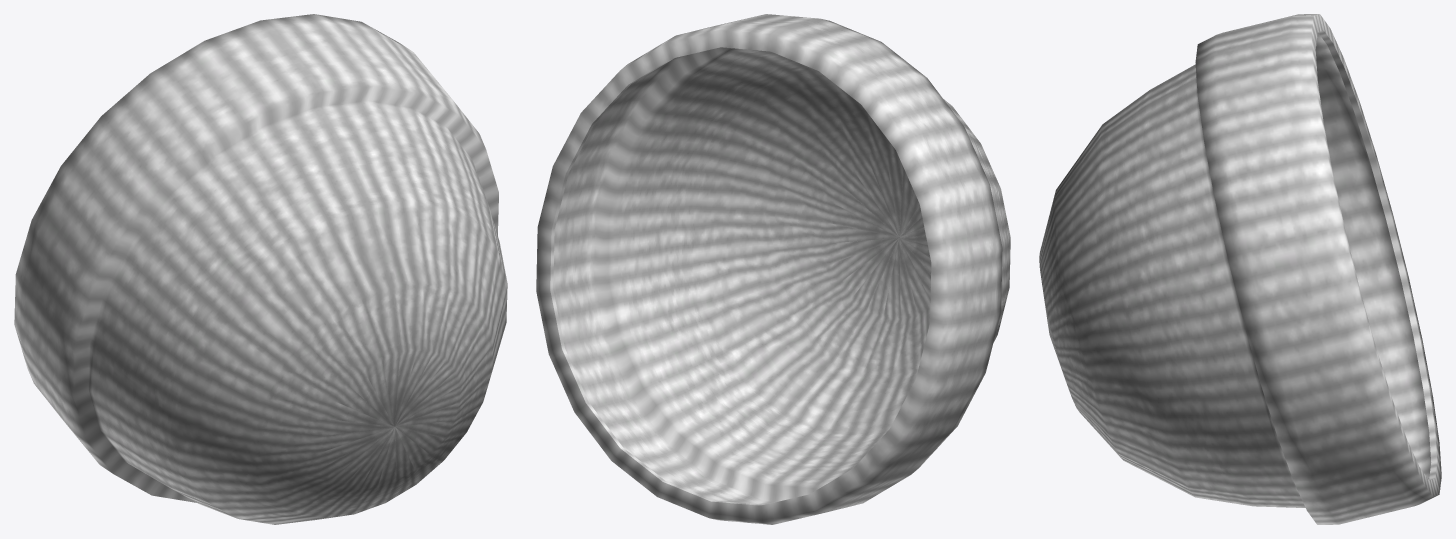
File: Headwear27.glb
The picture shows the model from 3 angles, left to right: view 1: azimuth 30°, elevation 25°; view 2: azimuth 150°, elevation 25°; view 3: azimuth 270°, elevation 25°; orthographic projection. The views are drawn at different scales.
Visible parts, largest first — view 1: Headwear27; view 2: Headwear27; view 3: Headwear27.
Part boxes in pixels (box(x1,y1,x2,y2)): Headwear27: box(14, 14, 507, 524); Headwear27: box(536, 14, 1010, 524); Headwear27: box(1039, 14, 1441, 524).
Size of the model in its own units: 1.98 by 2.12 by 1.65.
Materials: 1 (1 with a texture image).
